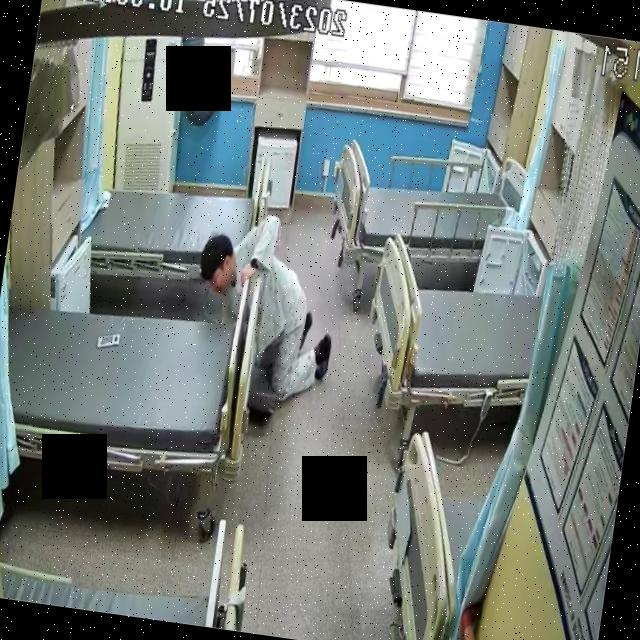bed: (0, 283, 243, 488), (354, 230, 550, 430), (328, 135, 528, 281), (75, 150, 271, 295)
fall: (180, 207, 347, 411)
patient: (178, 206, 347, 412)
